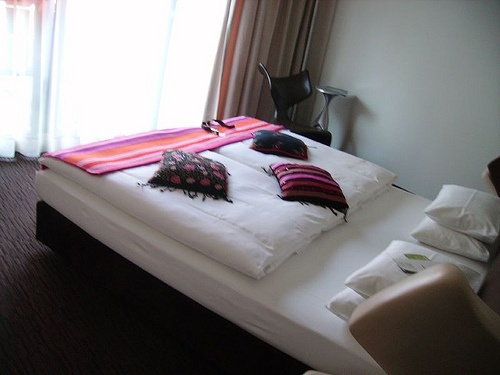bed: (34, 113, 500, 375)
chair: (258, 61, 500, 209)
